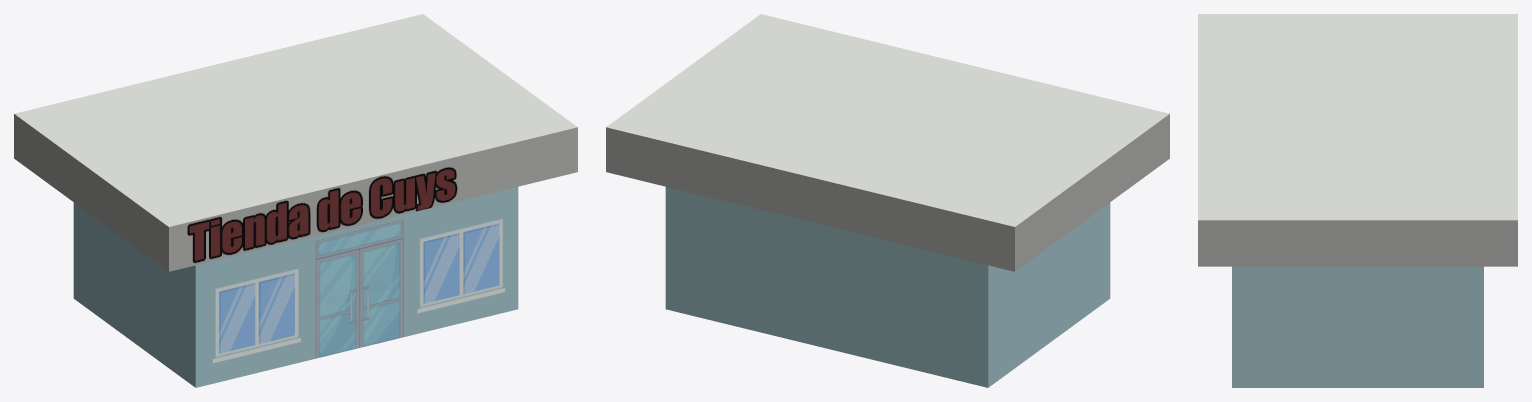
File: tiendaCuys.fbx
The picture shows the model from 3 angles, left to right: view 1: azimuth 30°, elevation 25°; view 2: azimuth 150°, elevation 25°; view 3: azimuth 270°, elevation 25°; orthographic projection. The views are drawn at different scales.
Parts seen in each view (by area): view 1: pCube6; view 2: pCube6; view 3: pCube6.
Boxes of the visible parts, left/top/right/bottom form: pCube6: left=14, top=14, right=577, bottom=387; pCube6: left=606, top=14, right=1169, bottom=387; pCube6: left=1198, top=14, right=1517, bottom=387.
Size of the model in its own units: 75.47 by 32.35 by 49.47.
1 material, 1 textured.
